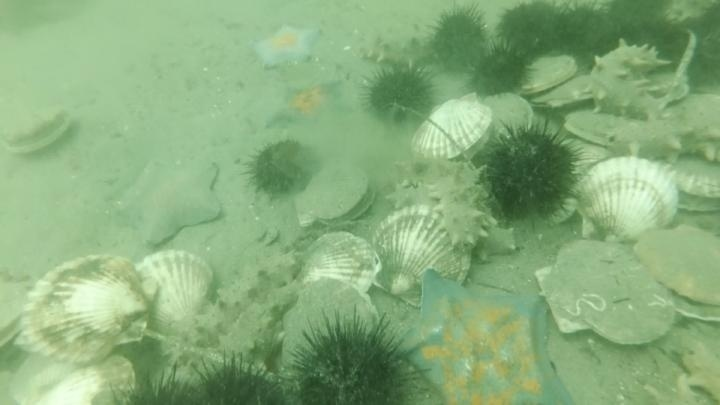echinus: (282, 310, 421, 405), (480, 119, 587, 228), (183, 352, 292, 404), (495, 1, 584, 59), (240, 135, 317, 200), (360, 62, 438, 126), (426, 4, 492, 72), (550, 1, 622, 62), (465, 39, 534, 101), (112, 364, 209, 404), (675, 9, 720, 95), (616, 1, 675, 31)
holothurian: (157, 247, 306, 375), (381, 173, 520, 258), (386, 153, 495, 255), (566, 107, 720, 168), (584, 39, 676, 124), (355, 21, 443, 70), (671, 325, 720, 404)
scallop: (14, 250, 158, 371), (532, 234, 679, 349), (273, 228, 386, 365), (363, 204, 477, 311), (570, 155, 684, 247), (631, 223, 720, 327), (133, 246, 224, 333), (291, 229, 385, 304), (407, 95, 498, 165), (16, 355, 137, 405), (293, 163, 377, 235), (2, 102, 77, 158), (473, 91, 538, 154), (525, 72, 602, 119), (665, 154, 720, 218), (516, 50, 582, 103), (1, 264, 37, 356), (560, 109, 626, 151)
starfish: (392, 269, 578, 405), (117, 157, 226, 249), (263, 75, 347, 133), (250, 21, 322, 71)
